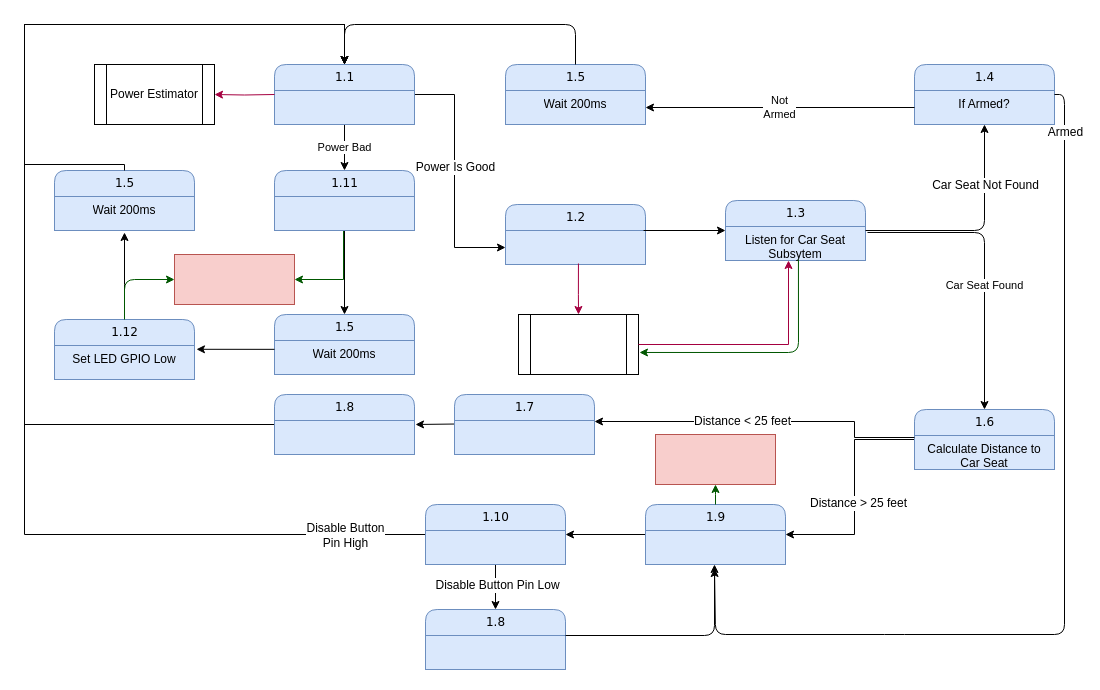
Some shapes in this 1100 by 690 pixel diagram are drawn without their labels. Each missing label, with the centre of its shape:
Arm Alarm: (524,437)
Buzzer: (715,459)
Check for Alarm Disable: (495,547)
Check if Power Below 20%: (344,107)
Communication Parser: (578,344)
Create Alarm Event: (715,547)
Get Location: (575,247)
LED GPIO: (234,279)
Set LED GPIO High: (344,213)
Wait 100 ms: (495,652)
Wait 100ms: (344,437)
